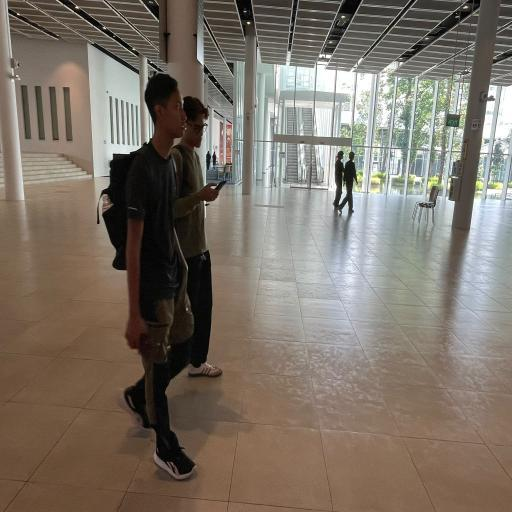person_right: (113, 62, 189, 480), (171, 96, 222, 377), (342, 152, 358, 220), (332, 151, 344, 208)
